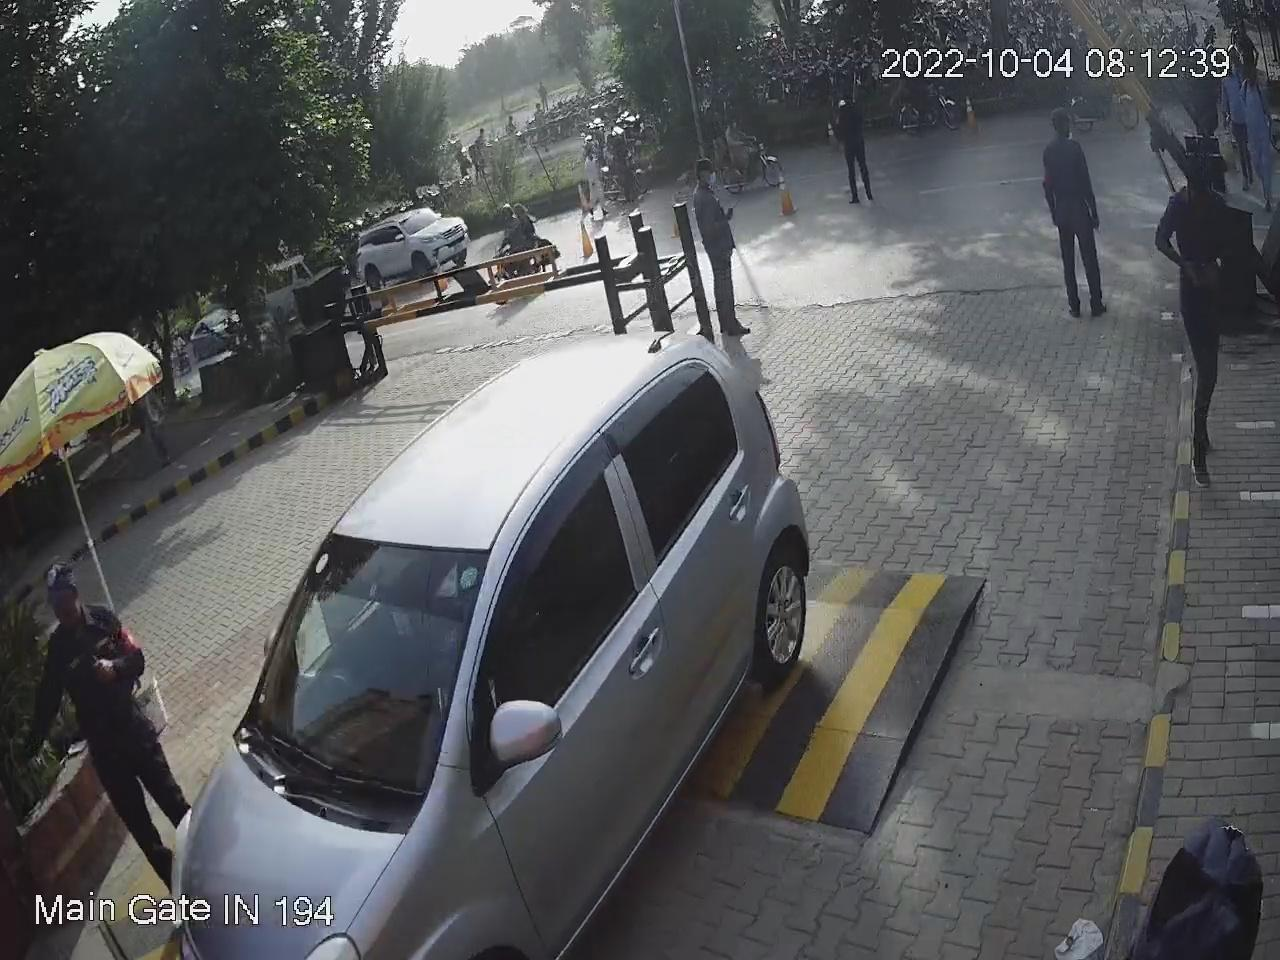windshield: (228, 530, 486, 820)
